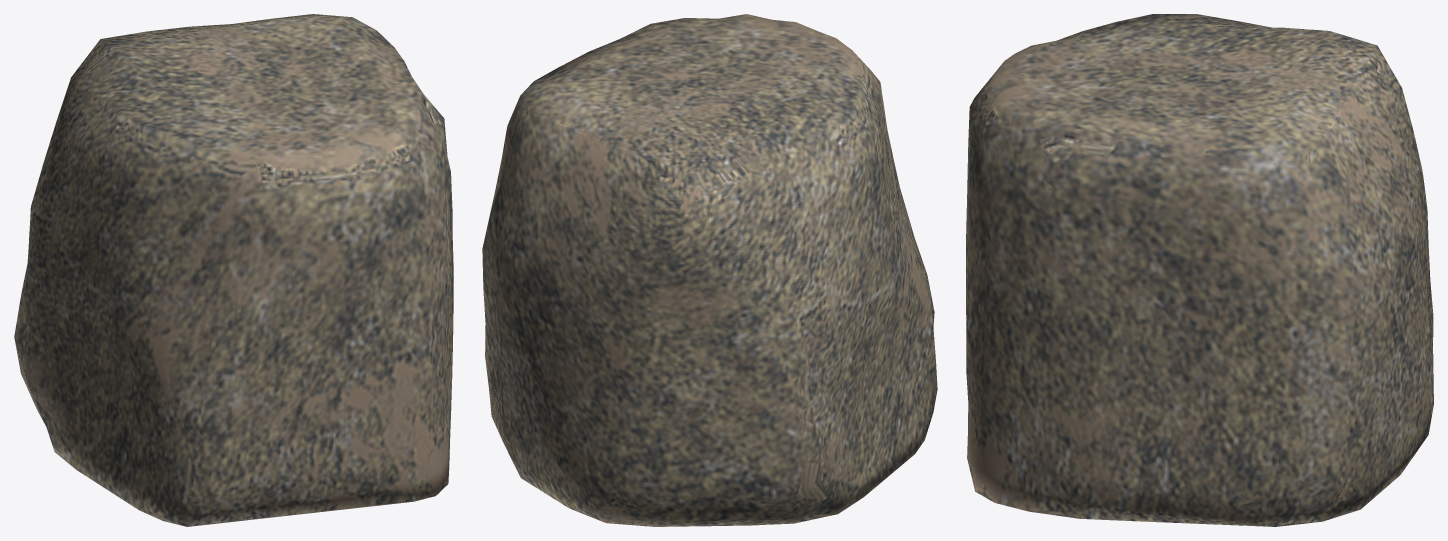
File: SM_CGJ_Cornerstone01a.fbx
The picture shows the model from 3 angles, left to right: view 1: azimuth 30°, elevation 25°; view 2: azimuth 150°, elevation 25°; view 3: azimuth 270°, elevation 25°; orthographic projection. The views are drawn at different scales.
Visible parts, largest first — view 1: SM_CGJ_Cornerstone01a; view 2: SM_CGJ_Cornerstone01a; view 3: SM_CGJ_Cornerstone01a.
Boxes of the visible parts, <box> form: SM_CGJ_Cornerstone01a: <box>14,14,453,526</box>; SM_CGJ_Cornerstone01a: <box>482,14,937,526</box>; SM_CGJ_Cornerstone01a: <box>966,14,1433,526</box>.
Bounding box in the file's own units: 61.72 × 69.66 × 62.8.
Materials: 1 (1 with a texture image).
